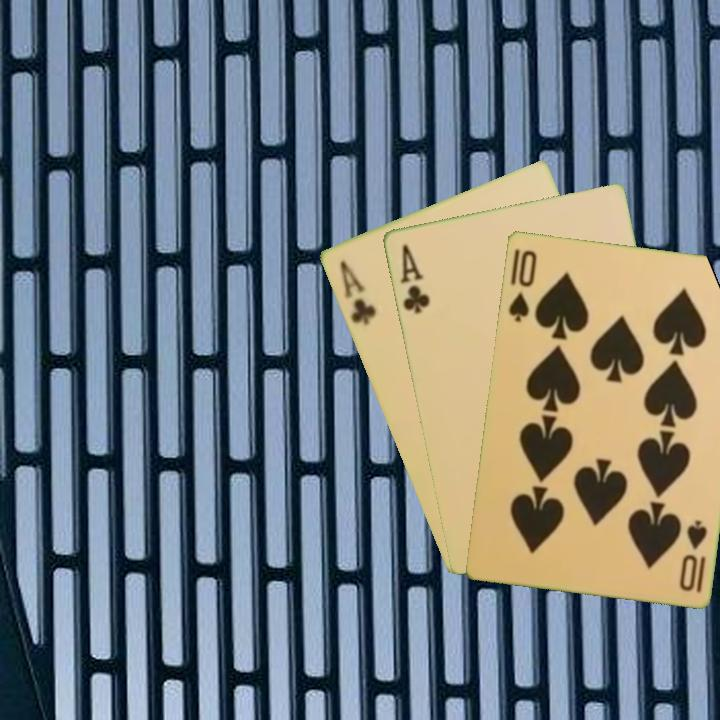10s: (675, 516, 710, 596), (505, 244, 539, 325)
Ac: (335, 257, 379, 328), (396, 239, 432, 316)
